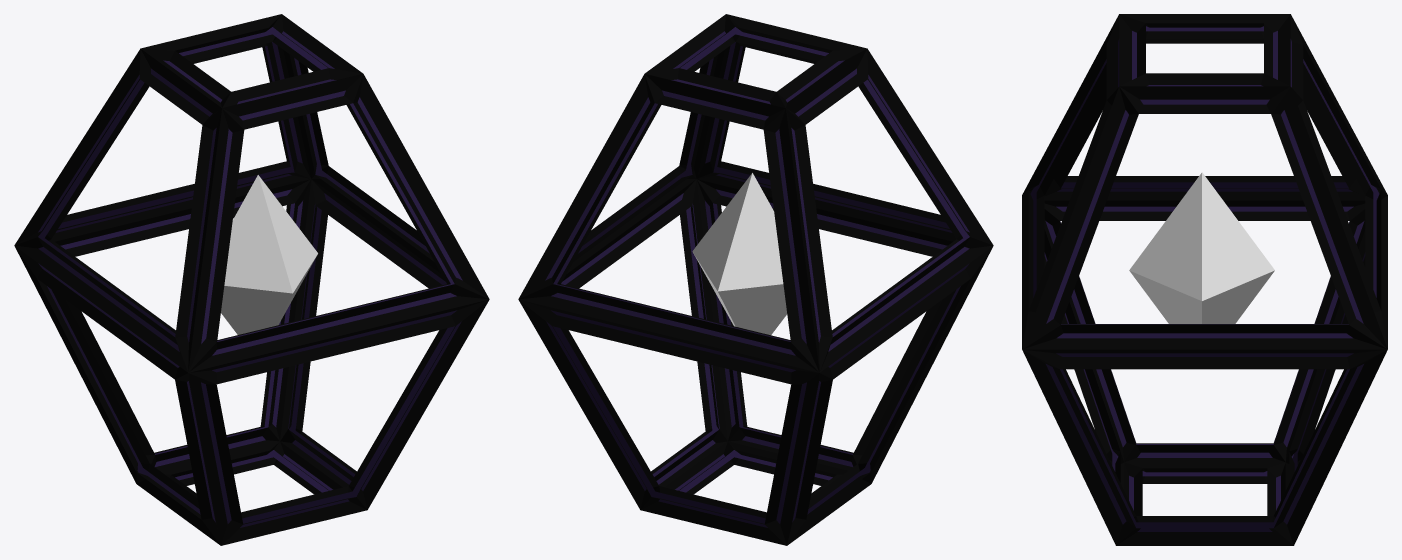
File: lantern 1.fbx
3 views of the same model, side by side, from view 1: azimuth 30°, elevation 25°; view 2: azimuth 150°, elevation 25°; view 3: azimuth 270°, elevation 25° (orthographic). The views are drawn at different scales.
Parts seen in each view (by area): view 1: Cube, Cone.001; view 2: Cube, Cone.001; view 3: Cube, Cone.001.
Boxes of the visible parts, bbox=[...] form: Cube: bbox=[14, 14, 489, 545]; Cone.001: bbox=[221, 175, 317, 334]; Cube: bbox=[518, 14, 993, 545]; Cone.001: bbox=[692, 173, 787, 335]; Cube: bbox=[1022, 14, 1387, 545]; Cone.001: bbox=[1129, 172, 1274, 323].
Bounding box in the file's own units: 253 × 352 × 253.
